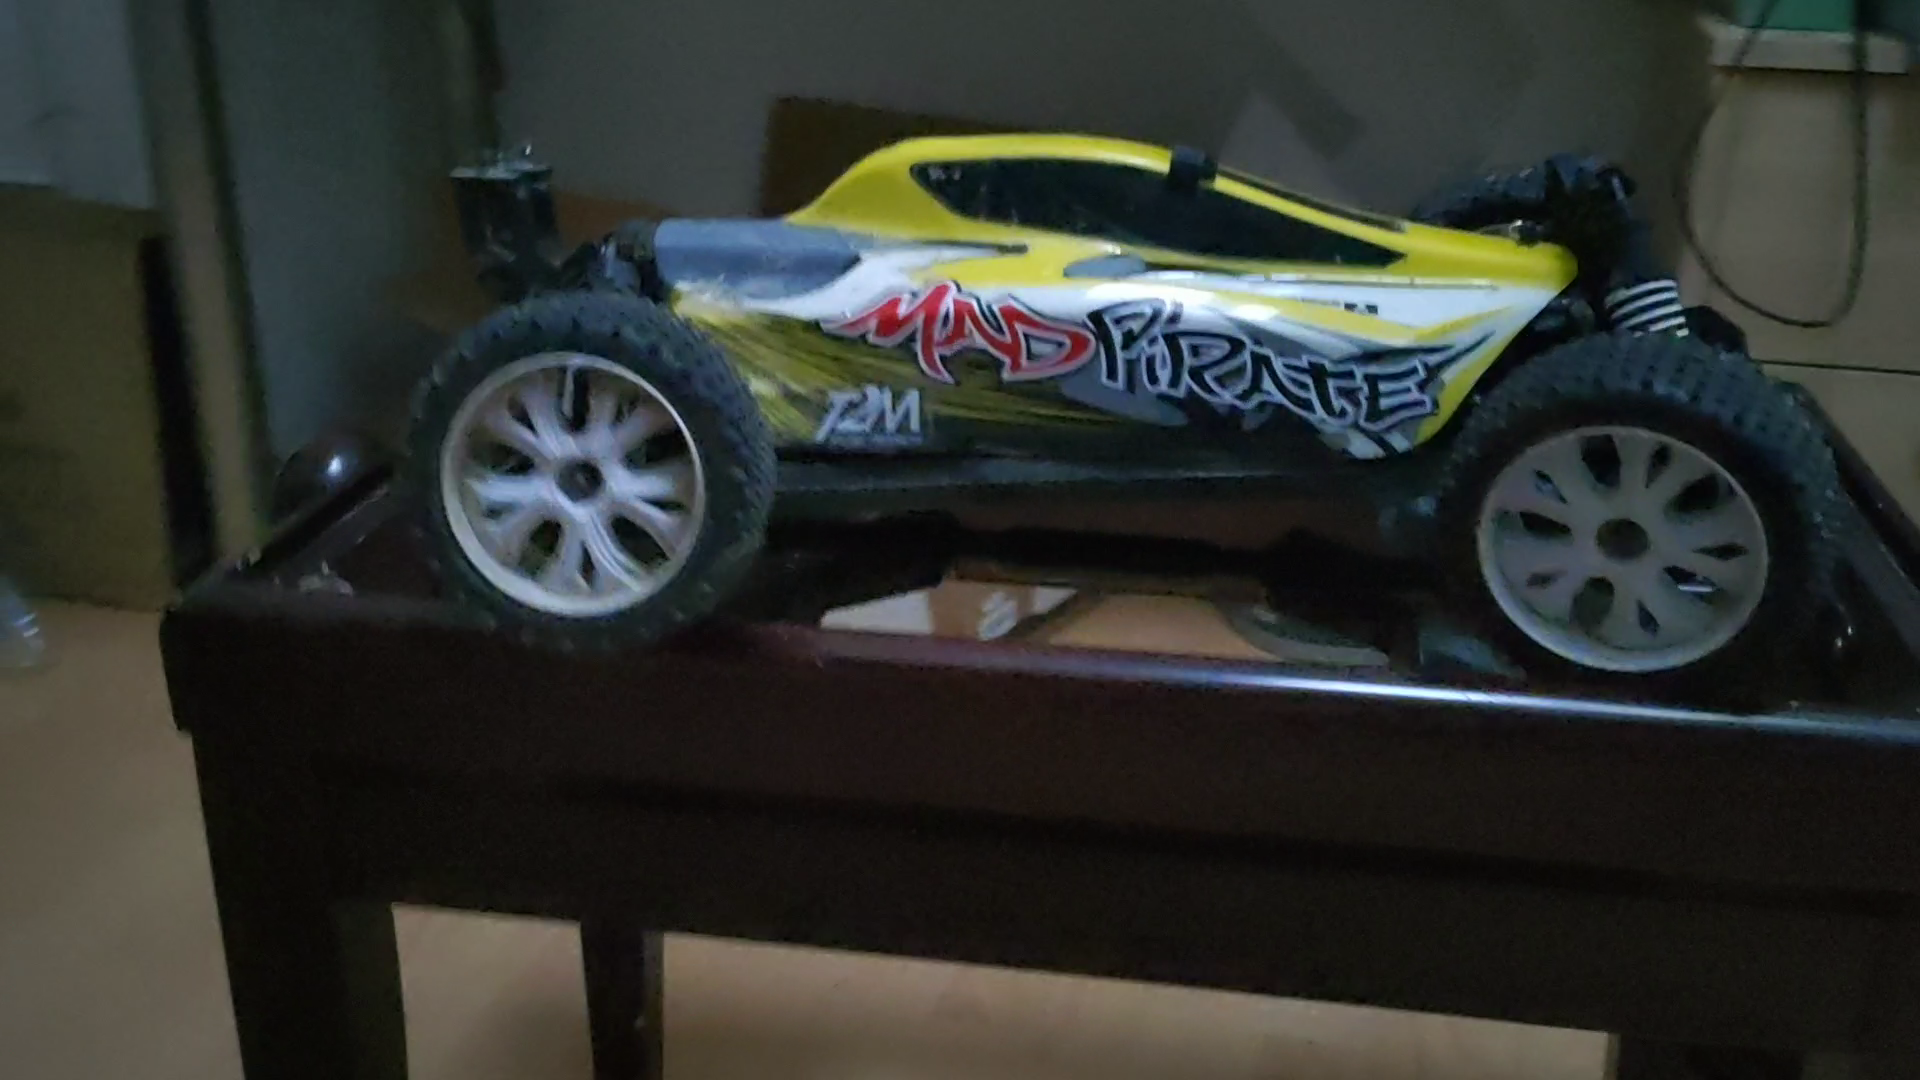buggy: (393, 125, 1855, 713)
